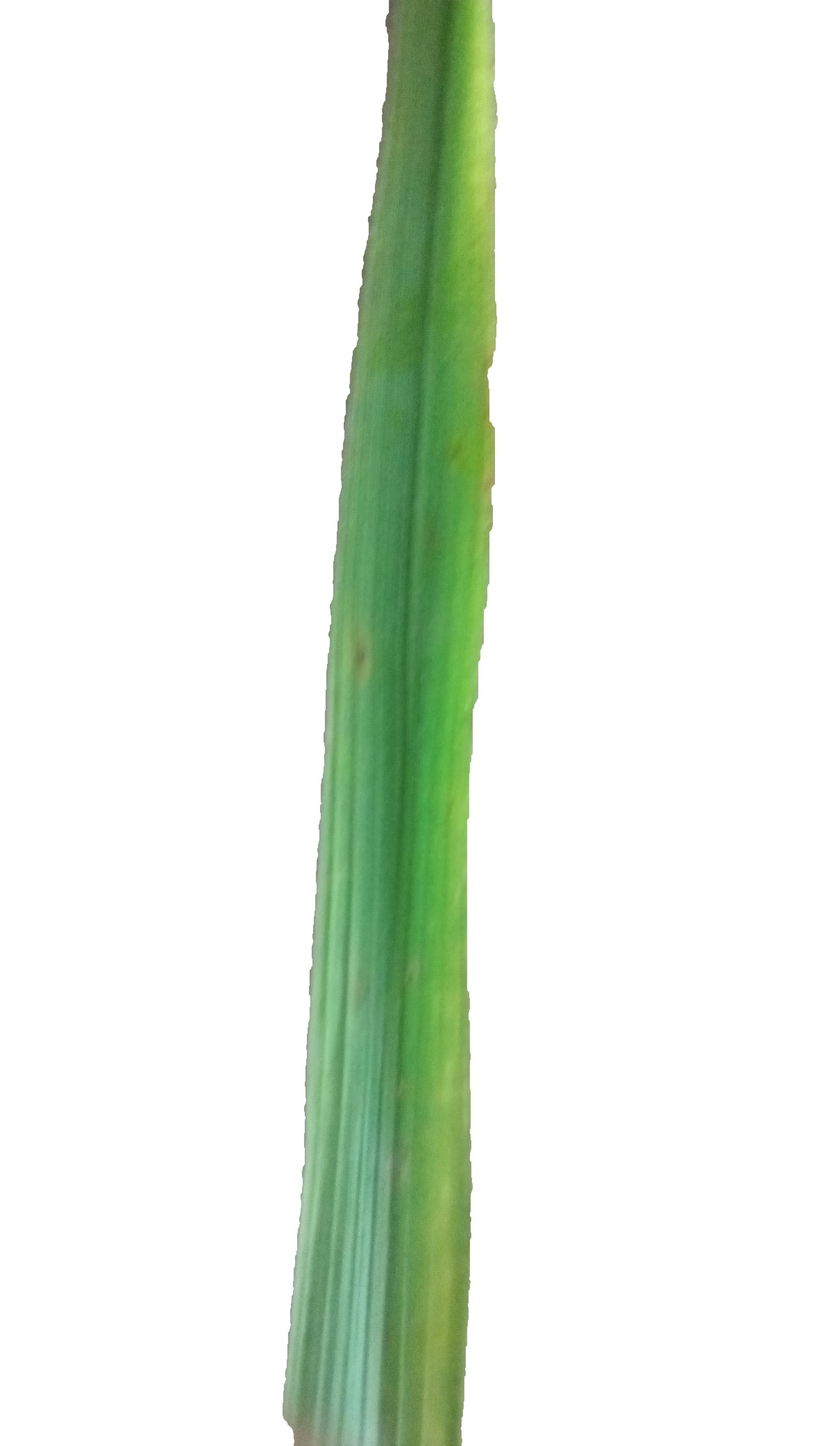Tungro: (386, 7, 493, 1446)
